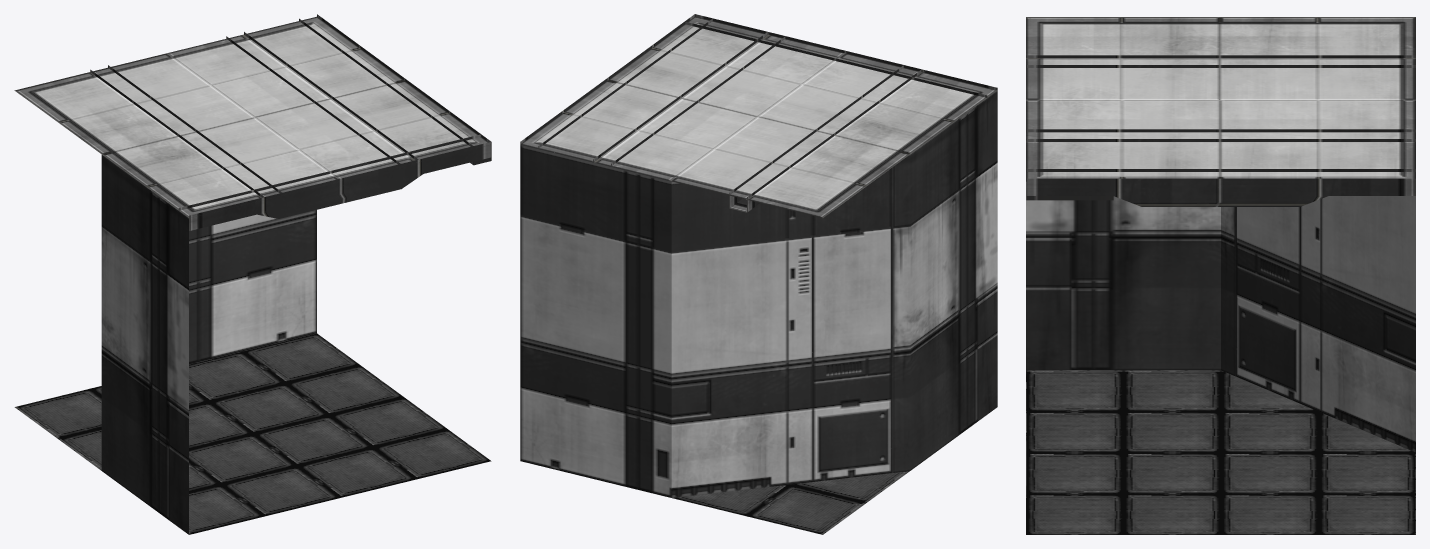
File: CorridorCapCorner1.fbx
3 renders of one model, left to right at view 1: azimuth 30°, elevation 25°; view 2: azimuth 150°, elevation 25°; view 3: azimuth 270°, elevation 25°, orthographic. The views are drawn at different scales.
Visible parts, largest first — view 1: CorridorCapCorner1; view 2: CorridorCapCorner1; view 3: CorridorCapCorner1.
Boxes of the visible parts, x1,y1,x2,y2 form: CorridorCapCorner1: (14, 14, 491, 534); CorridorCapCorner1: (520, 14, 997, 534); CorridorCapCorner1: (1026, 17, 1415, 534).
Bounding box in the file's own units: 5 × 5.04 × 5.
